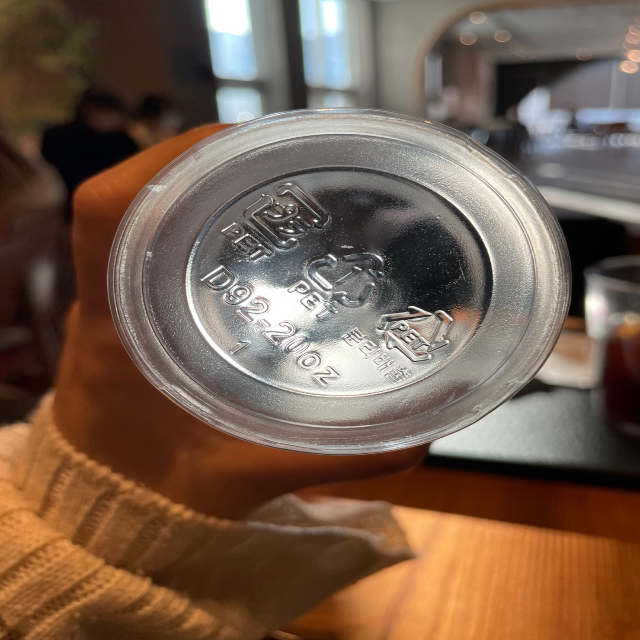pet: (217, 177, 336, 263), (342, 301, 455, 376), (283, 245, 394, 321)
